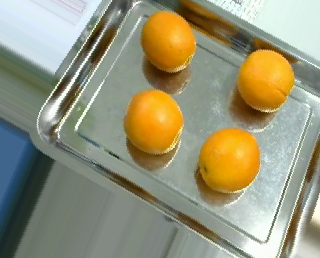Orange: (197, 127, 260, 192), (122, 89, 183, 154), (237, 48, 295, 112), (141, 10, 197, 73)
